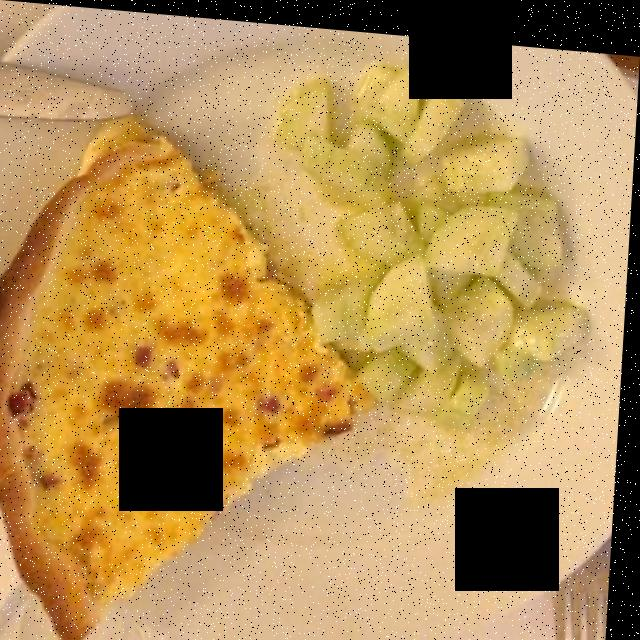cucumber: (278, 73, 583, 417)
quiche-with-cheese-baked-with-puff-pastry: (0, 119, 355, 629)
